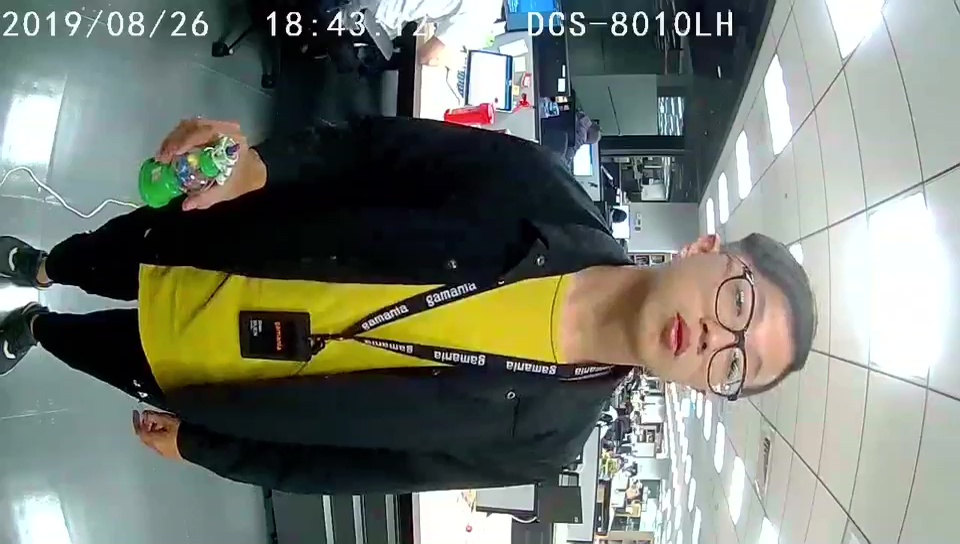buzz: (138, 135, 238, 209)
